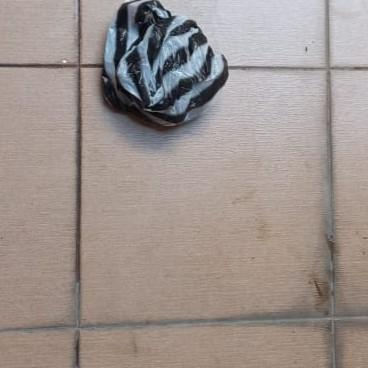Plastik: (102, 0, 230, 127)
